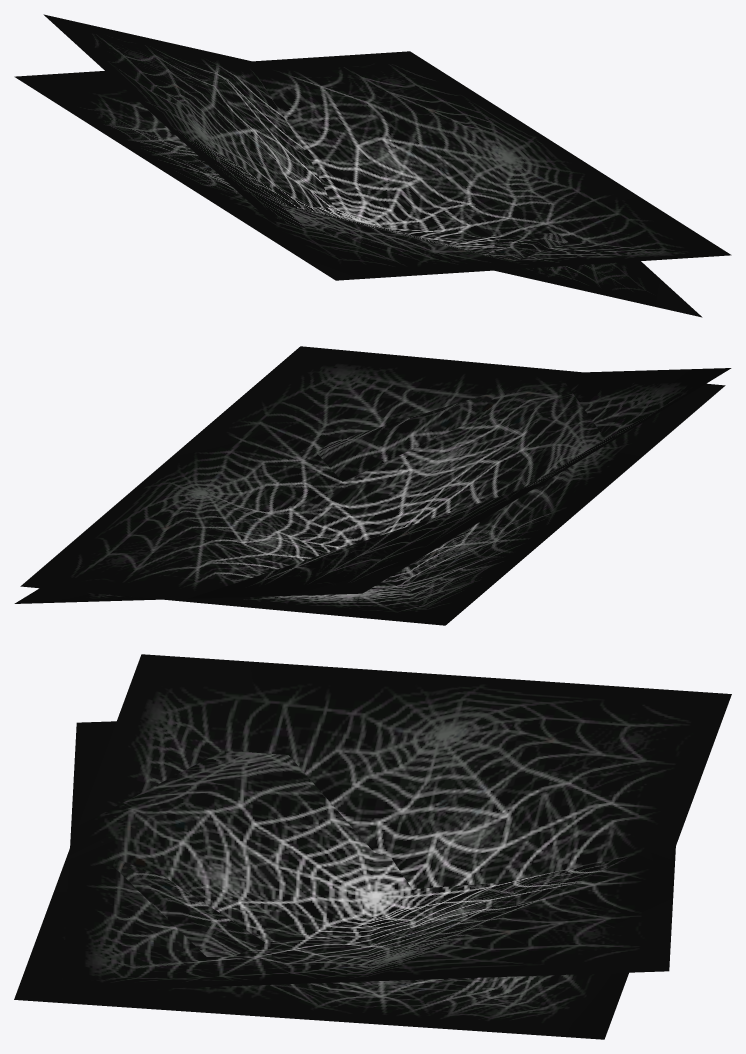
File: DWARF_PALACE_SPIDERWEB09.fbx
The picture shows the model from 3 angles, top to bottom: view 1: azimuth 30°, elevation 25°; view 2: azimuth 150°, elevation 25°; view 3: azimuth 270°, elevation 25°; orthographic projection. The views are drawn at different scales.
Parts seen in each view (by area): view 1: DWARF_PALACE_SPIDERWEB09; view 2: DWARF_PALACE_SPIDERWEB09; view 3: DWARF_PALACE_SPIDERWEB09.
Part boxes in pixels (x1,y1,x2,y2): DWARF_PALACE_SPIDERWEB09: [14, 14, 731, 317]; DWARF_PALACE_SPIDERWEB09: [14, 346, 731, 625]; DWARF_PALACE_SPIDERWEB09: [14, 654, 731, 1039].
Bounding box in the file's own units: 62517 × 21864 × 86108.
1 material, 1 textured.
